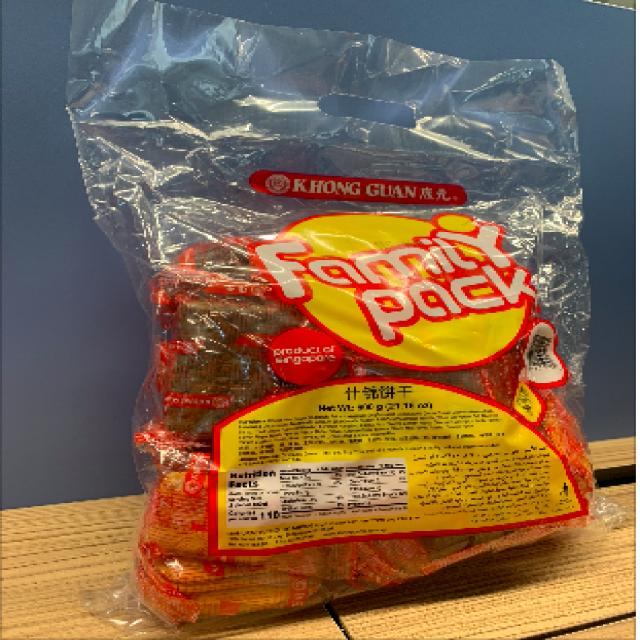object_name: (155, 28, 577, 574)
